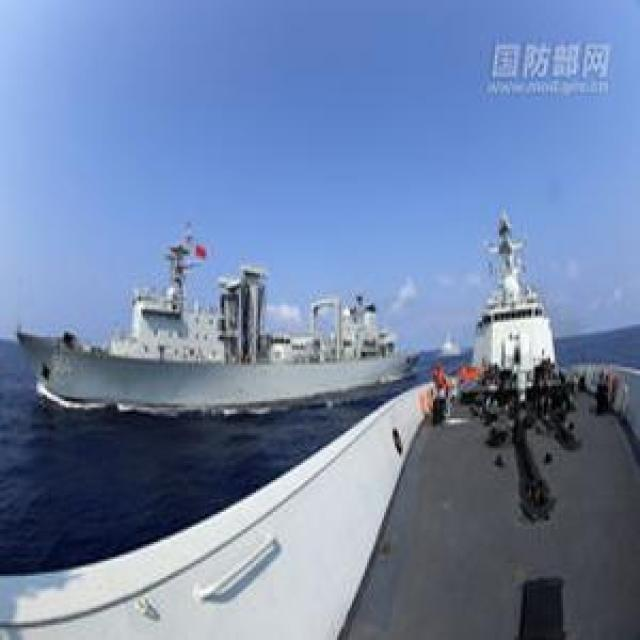navalvessels: (3, 215, 433, 415)
